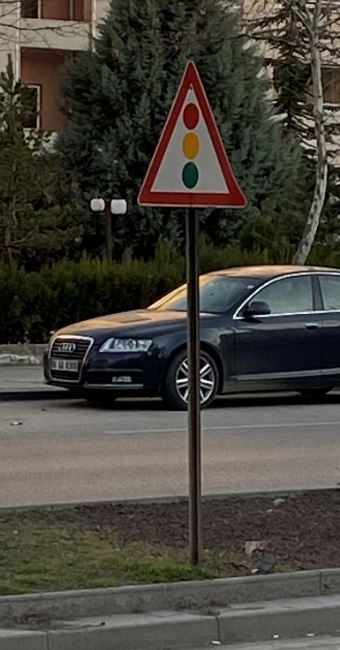Trafikisiklari: (139, 57, 245, 207)
